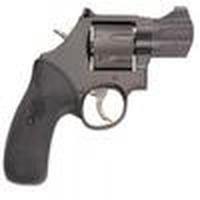gun: (3, 2, 200, 186)
